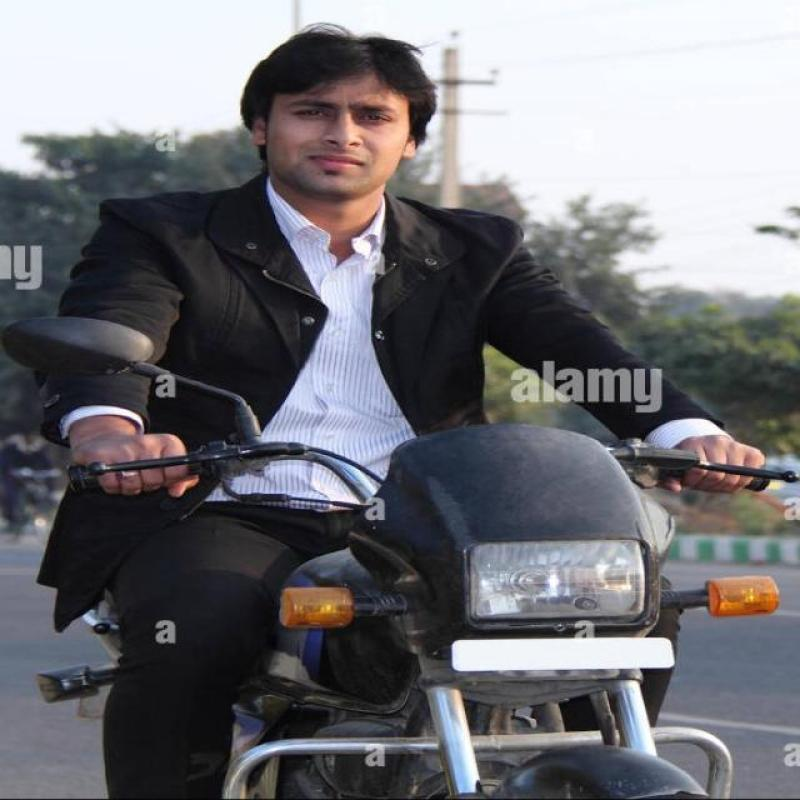nohelmet: (218, 40, 438, 206)
